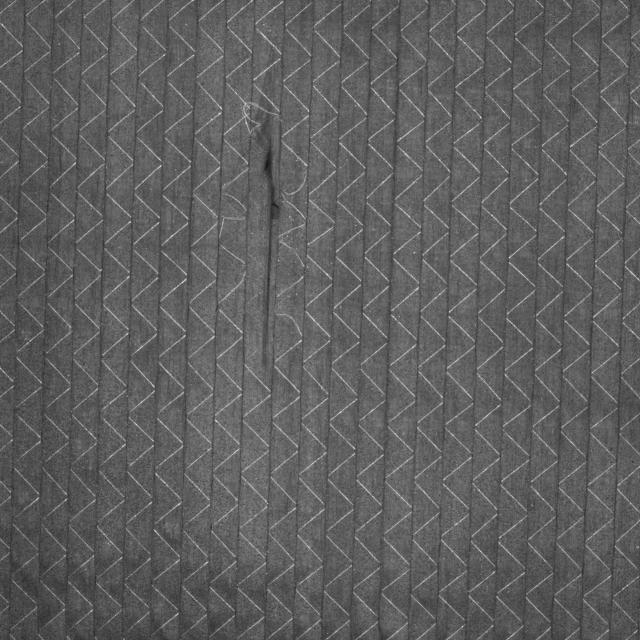carbon-fibre-defect: (232, 99, 289, 373)
